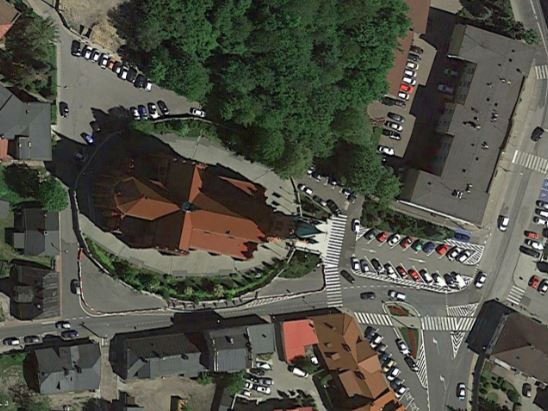block of flats: (394, 18, 541, 228), (279, 307, 408, 411), (121, 319, 278, 382), (483, 304, 548, 382)
church: (85, 142, 332, 259)
family house: (31, 336, 101, 397), (10, 261, 63, 323), (12, 205, 63, 259)
